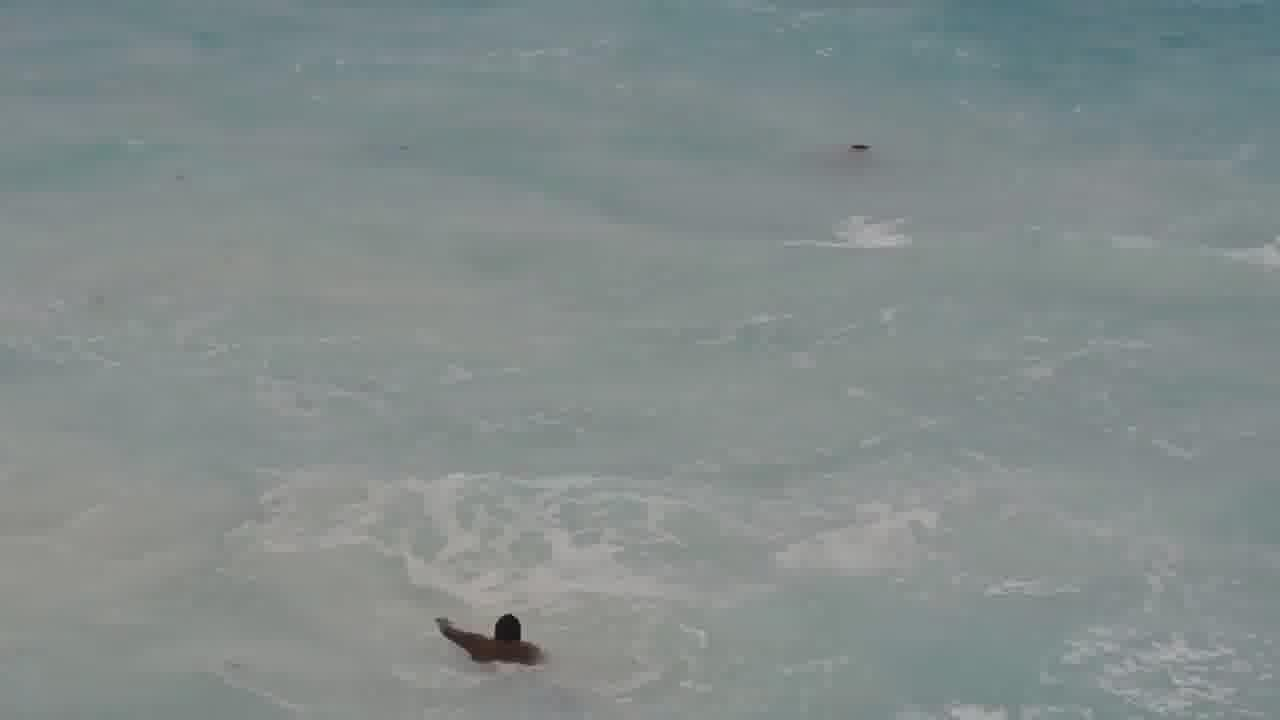swimmer: (458, 599, 547, 671), (838, 130, 880, 169)
